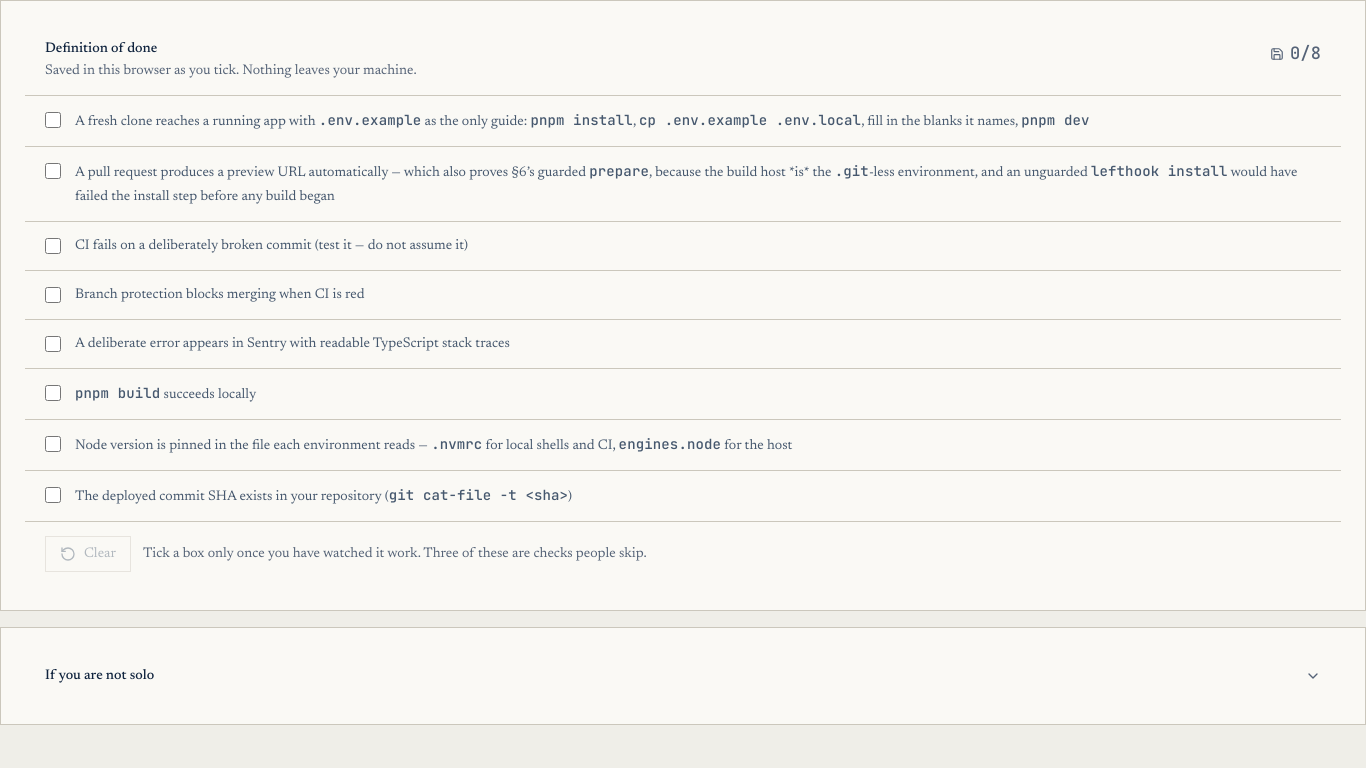
Test: renders every scaling-to-a-team move behind the disclosure, so a move added to the data is not silently dropped
The image size is (1366, 768).
What coordinates should you click on to do the following:
click the button "If you are not solo"
I would click on:
 (100, 676)
Its box is [25,652,1341,700].
(page scrolled)
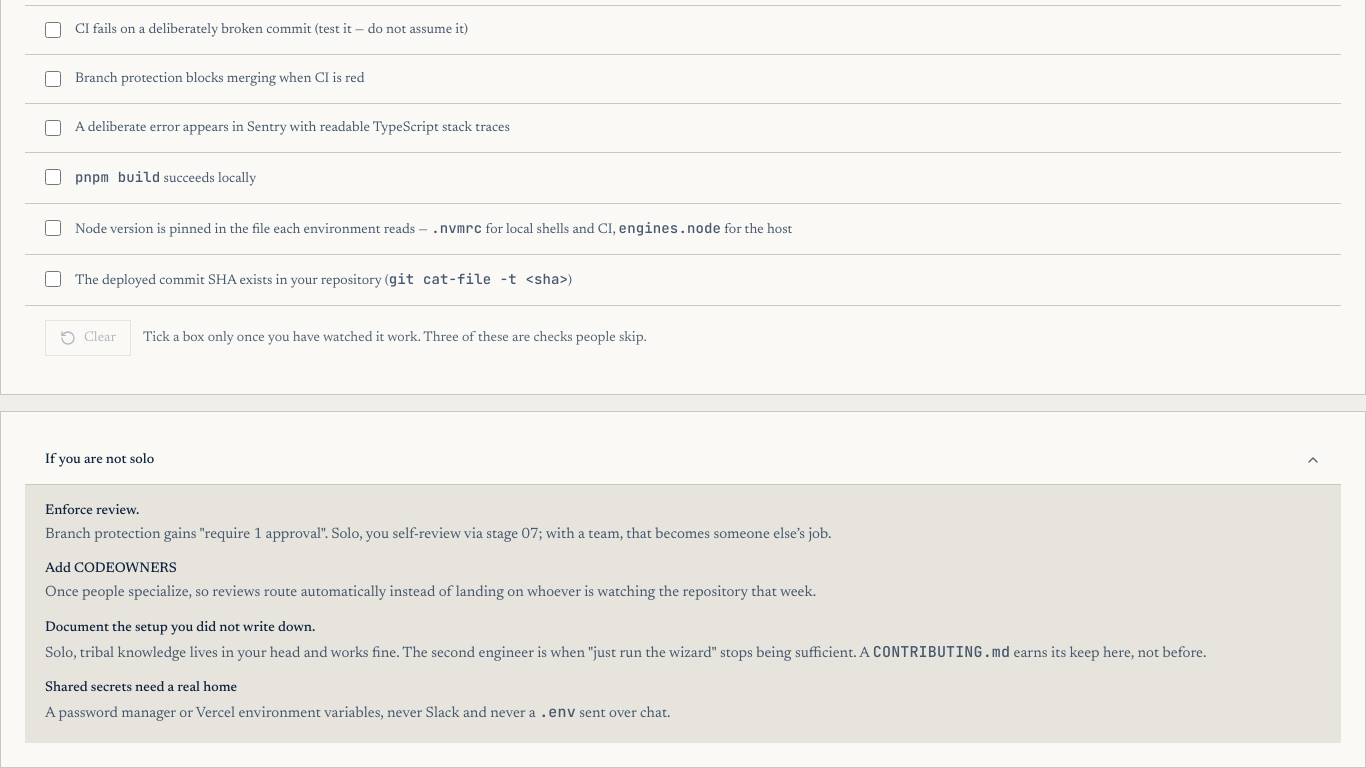
Expected: the text "Enforce review." is shown, [45,504,139,518]
Expected: the text "Add CODEOWNERS" is shown, [45,562,177,576]
Expected: the text "Document the setup you did not write down." is shown, [45,621,315,635]
